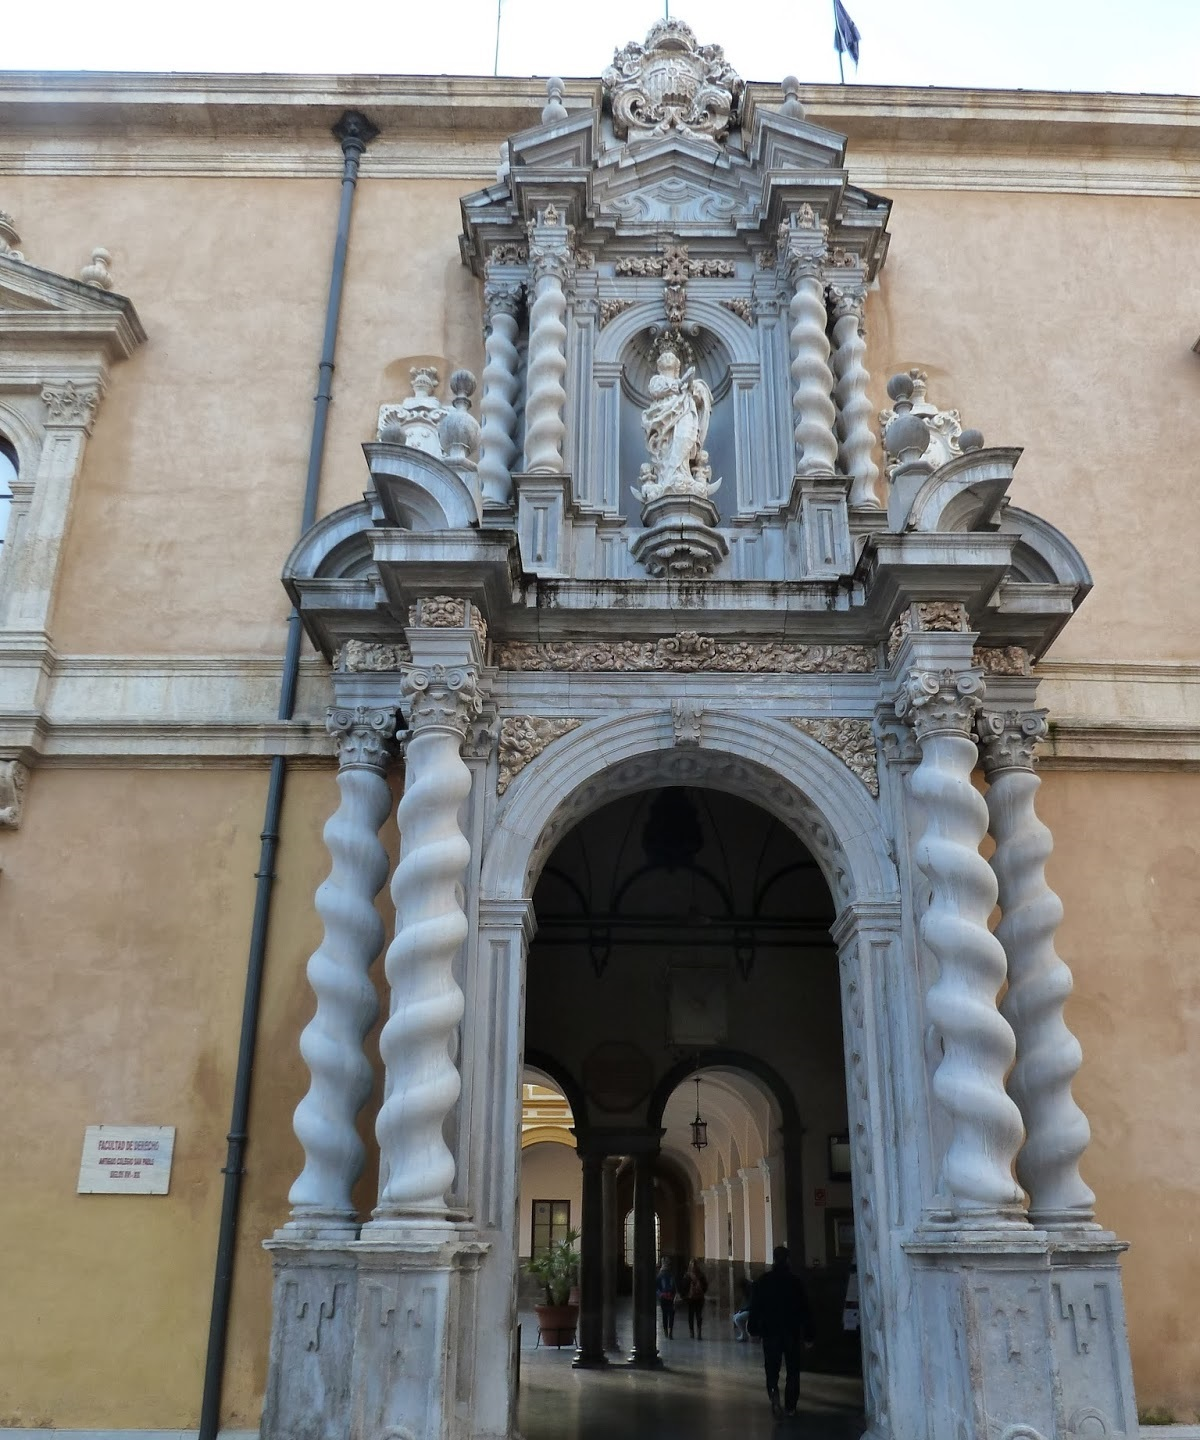arco-medio-punto: (508, 736, 887, 984)
columna-salomonica: (900, 727, 1028, 1221), (982, 751, 1111, 1227), (367, 727, 486, 1235), (278, 761, 402, 1239), (780, 275, 841, 477), (830, 301, 887, 512), (473, 310, 523, 521), (524, 273, 572, 486)
